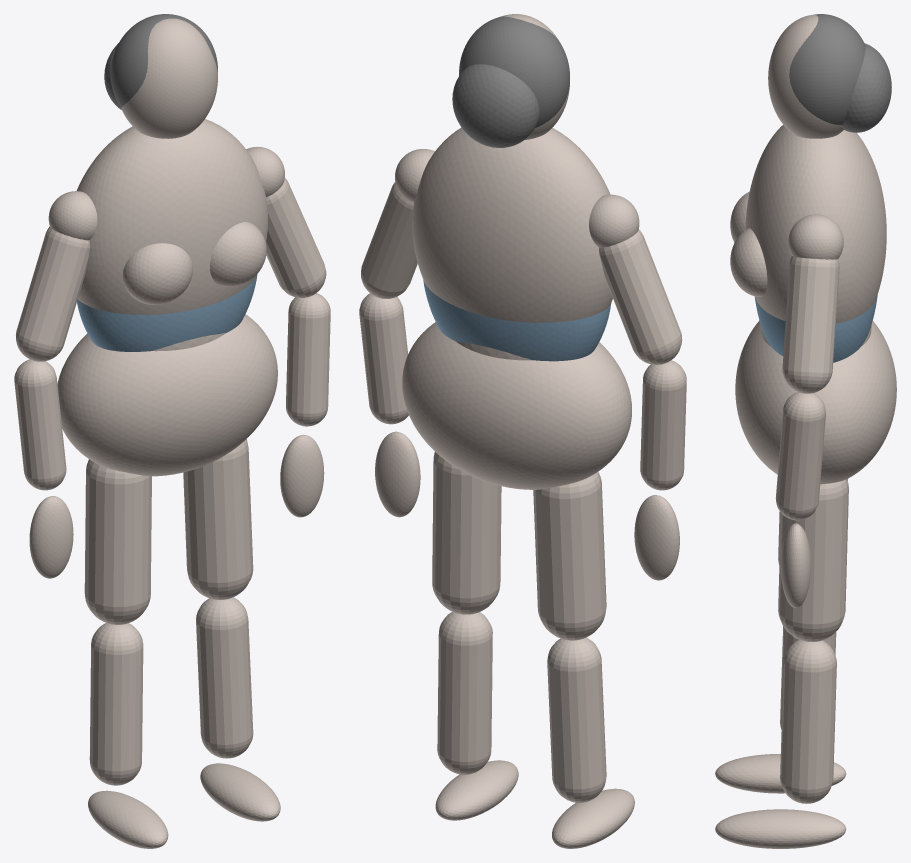
Rendered from female-body.glb.
3 views of the same model, side by side, from view 1: azimuth 30°, elevation 25°; view 2: azimuth 150°, elevation 25°; view 3: azimuth 270°, elevation 25° (orthographic). The views are drawn at different scales.
Parts seen in each view (by area): view 1: world; view 2: world; view 3: world.
Part boxes in pixels (box(x1,y1,x2,y2)): world: box(14, 14, 330, 848); world: box(359, 14, 686, 848); world: box(715, 14, 896, 848).
Size of the model in its own units: 0.6805 by 1.65 by 0.3404.
